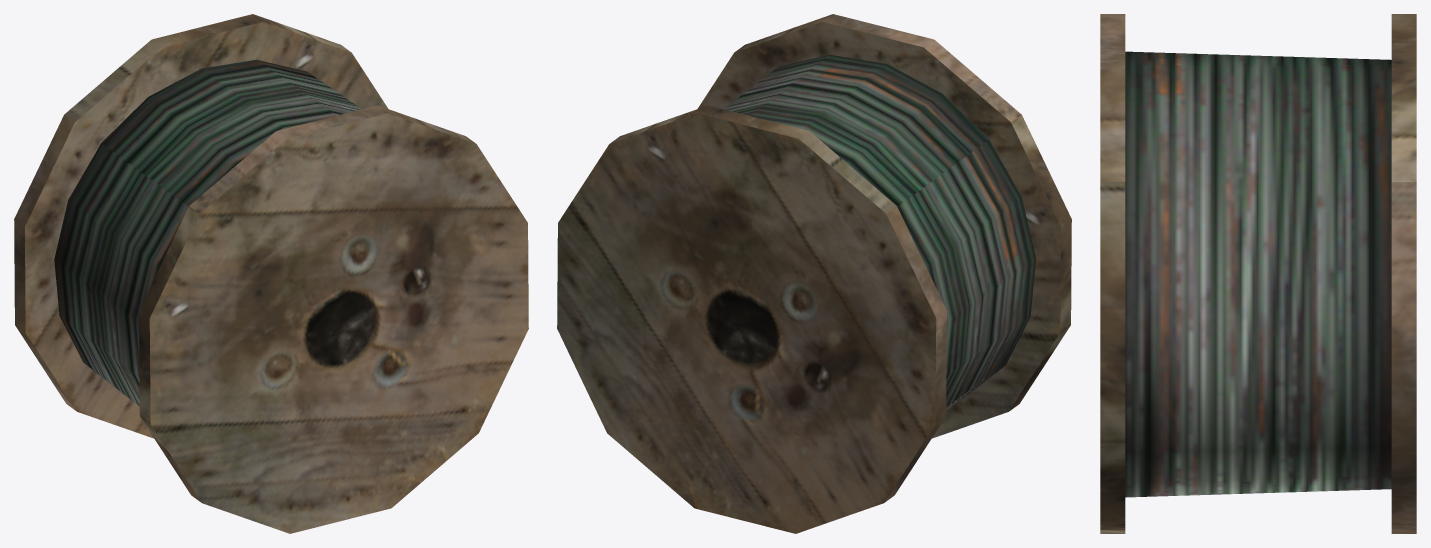
The model's file is cable_reel.fbx.
3 views of the same model, side by side, from view 1: azimuth 30°, elevation 25°; view 2: azimuth 150°, elevation 25°; view 3: azimuth 270°, elevation 25° (orthographic). The views are drawn at different scales.
Visible parts, largest first — view 1: cable_reel01; view 2: cable_reel01; view 3: cable_reel01.
Part boxes in pixels (x1,y1,x2,y2): cable_reel01: (14, 14, 528, 533); cable_reel01: (557, 14, 1071, 533); cable_reel01: (1100, 14, 1416, 533).
Size of the model in its own units: 226 by 226 by 140.
Materials: 1 (1 with a texture image).
